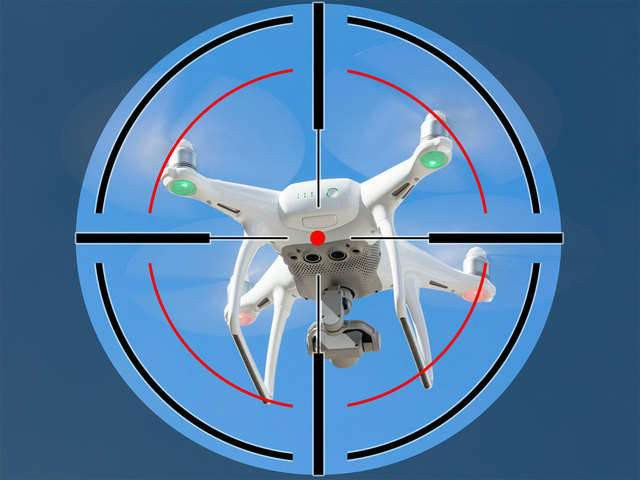maybay_khongnguoilai: (154, 128, 491, 392)
